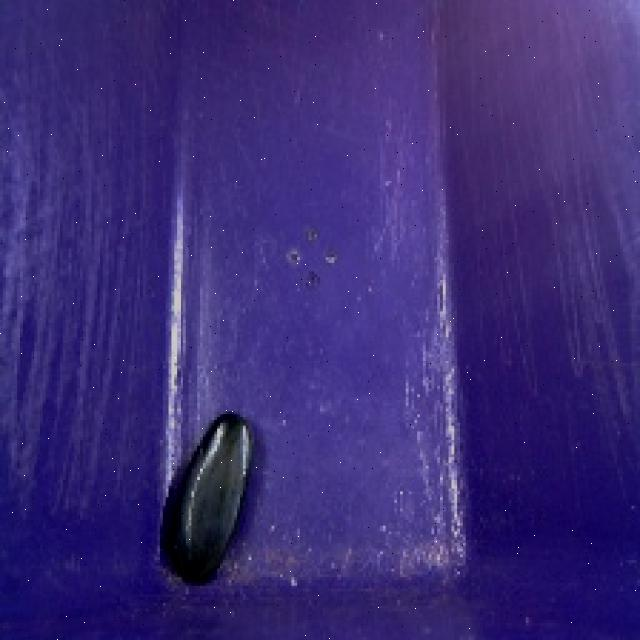cobbles: (156, 400, 266, 590)
